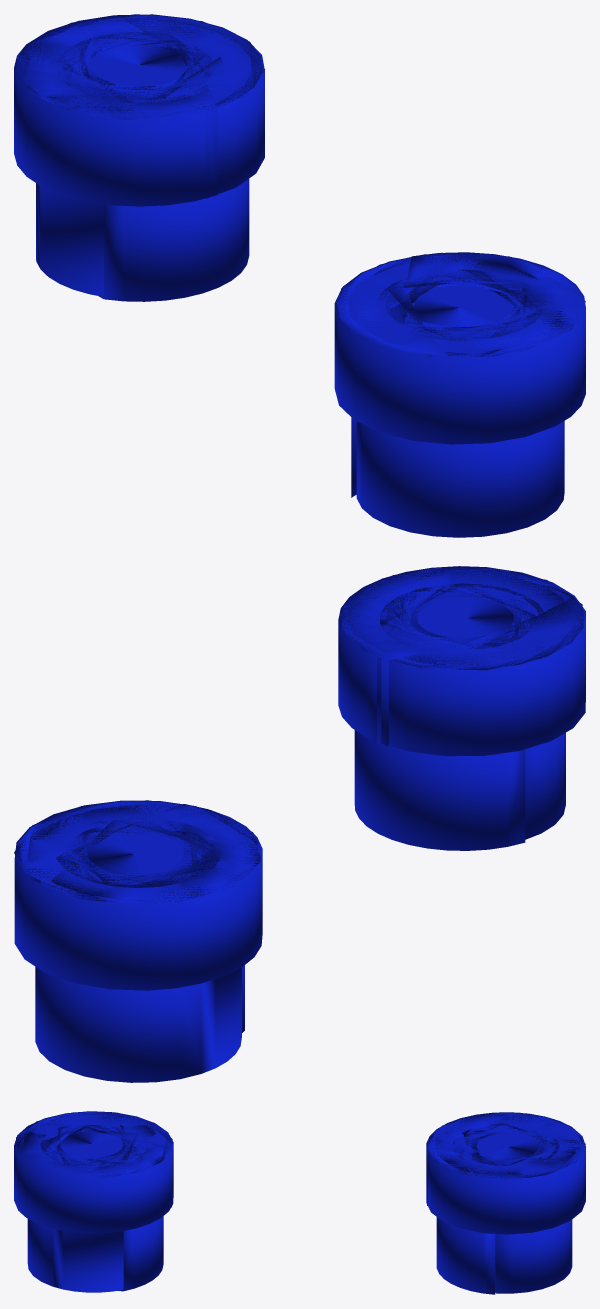
File: tuyeau_element_000049.obj
The picture shows the model from 3 angles, top to bottom: view 1: azimuth 30°, elevation 25°; view 2: azimuth 150°, elevation 25°; view 3: azimuth 270°, elevation 25°; orthographic projection. The views are drawn at different scales.
Visible parts, largest first — view 1: tuyeau1_Cube.014, tuyeau2_Cube.017; view 2: tuyeau2_Cube.017, tuyeau1_Cube.014; view 3: tuyeau1_Cube.014, tuyeau2_Cube.017.
Boxes of the visible parts, x1,y1,x2,y2 form: tuyeau1_Cube.014: (14,14,264,301); tuyeau2_Cube.017: (334,252,585,537); tuyeau2_Cube.017: (338,566,585,850); tuyeau1_Cube.014: (14,800,262,1082); tuyeau1_Cube.014: (426,1112,585,1294); tuyeau2_Cube.017: (14,1111,173,1292).
Bounding box in the file's own units: 3582 × 2917 × 12625.
